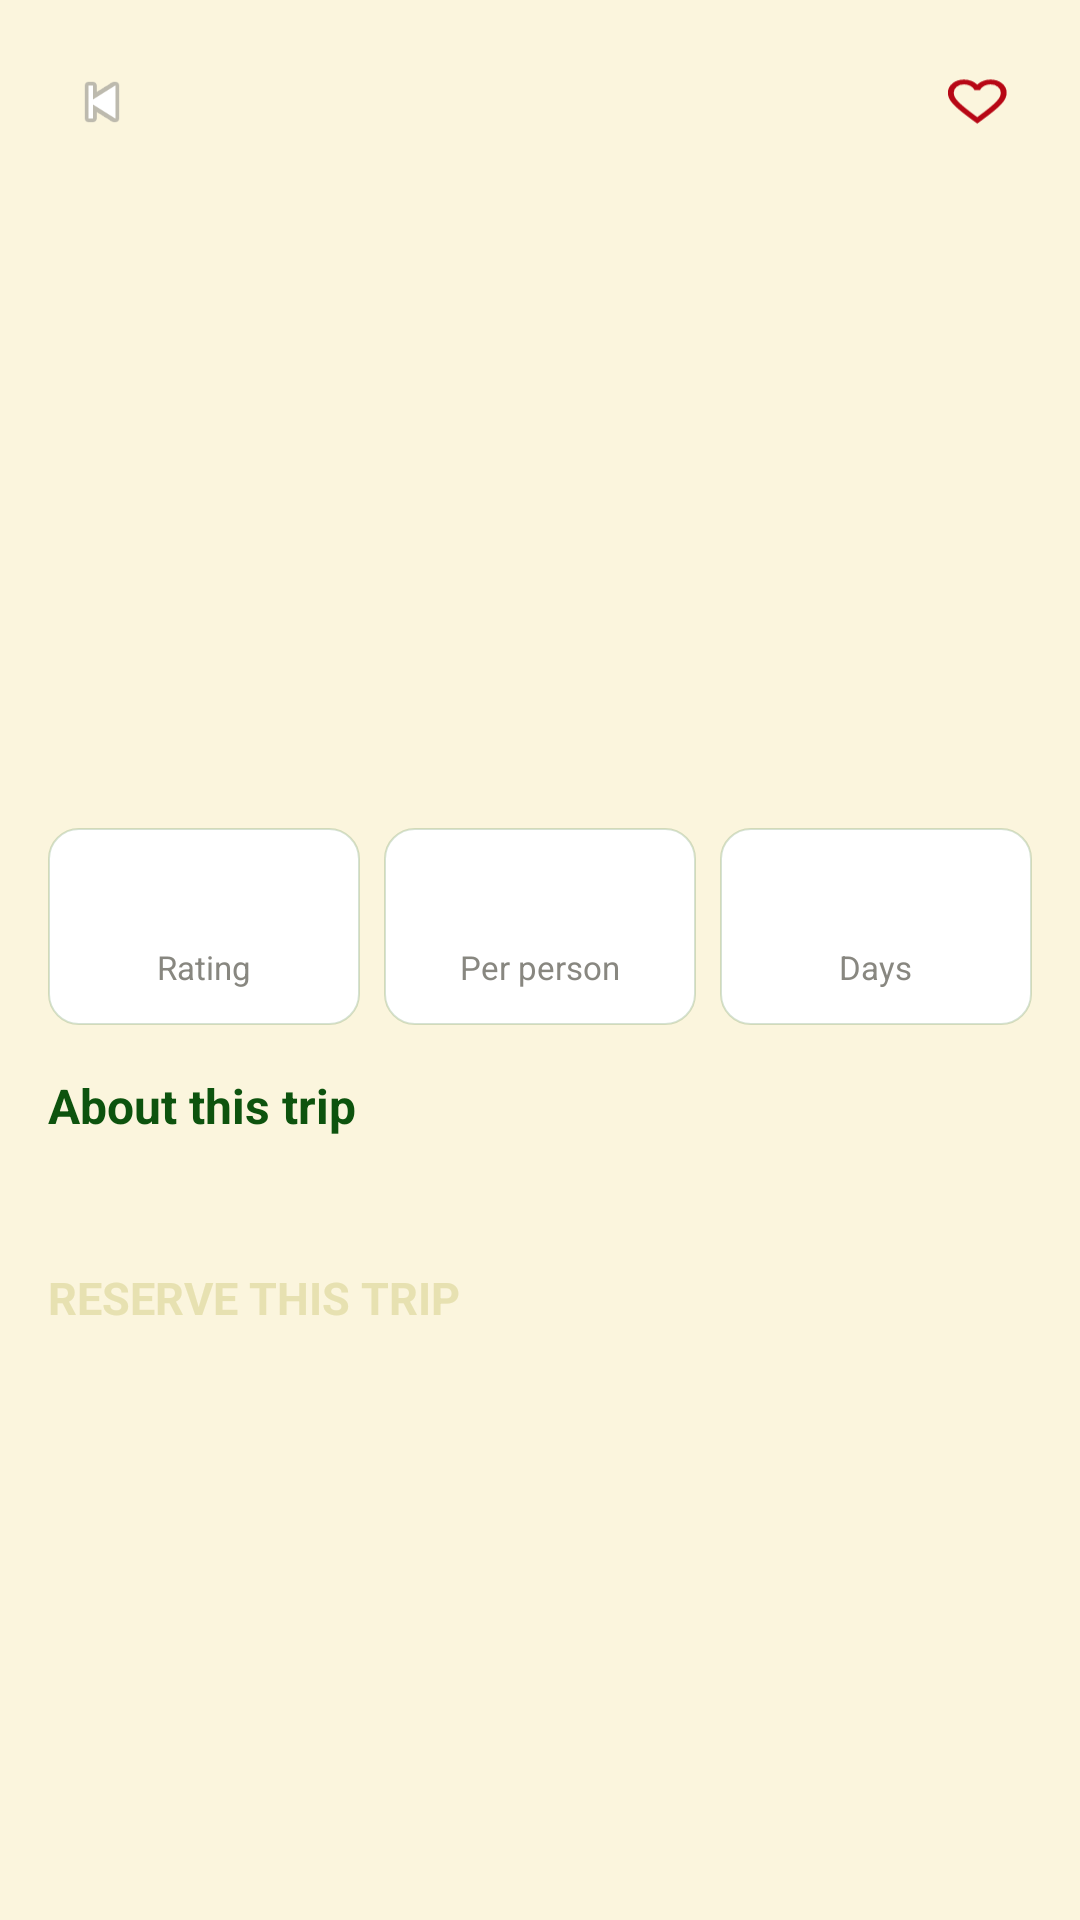

Icon click points for this 1080×1920 phone screenshot, format [x,y]:
Back: [102,102]
Favorite: [977,101]
